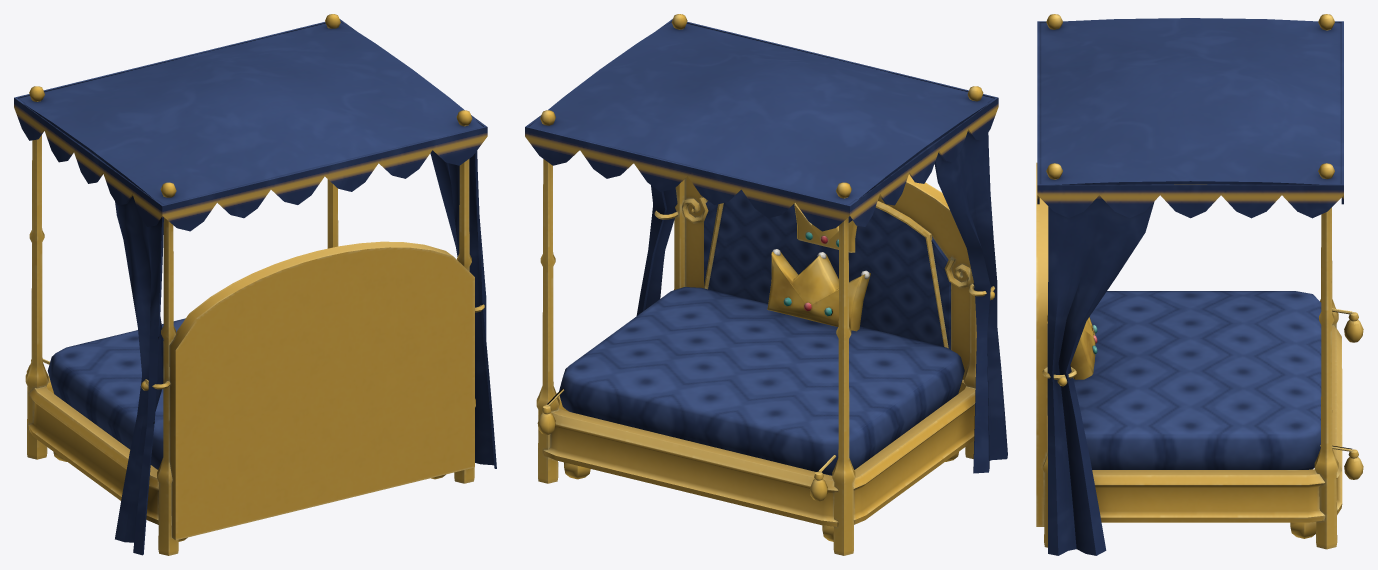
Rendered from pet-bed-royal.fbx.
3 renders of one model, left to right at view 1: azimuth 30°, elevation 25°; view 2: azimuth 150°, elevation 25°; view 3: azimuth 270°, elevation 25°, orthographic. The views are drawn at different scales.
Visible parts, largest first — view 1: Body; view 2: Body; view 3: Body.
Boxes of the visible parts, bbox=[...] form: Body: bbox=[14, 14, 496, 555]; Body: bbox=[525, 14, 1007, 555]; Body: bbox=[1036, 14, 1363, 555].
Size of the model in its own units: 1.07 by 1.08 by 0.806.
